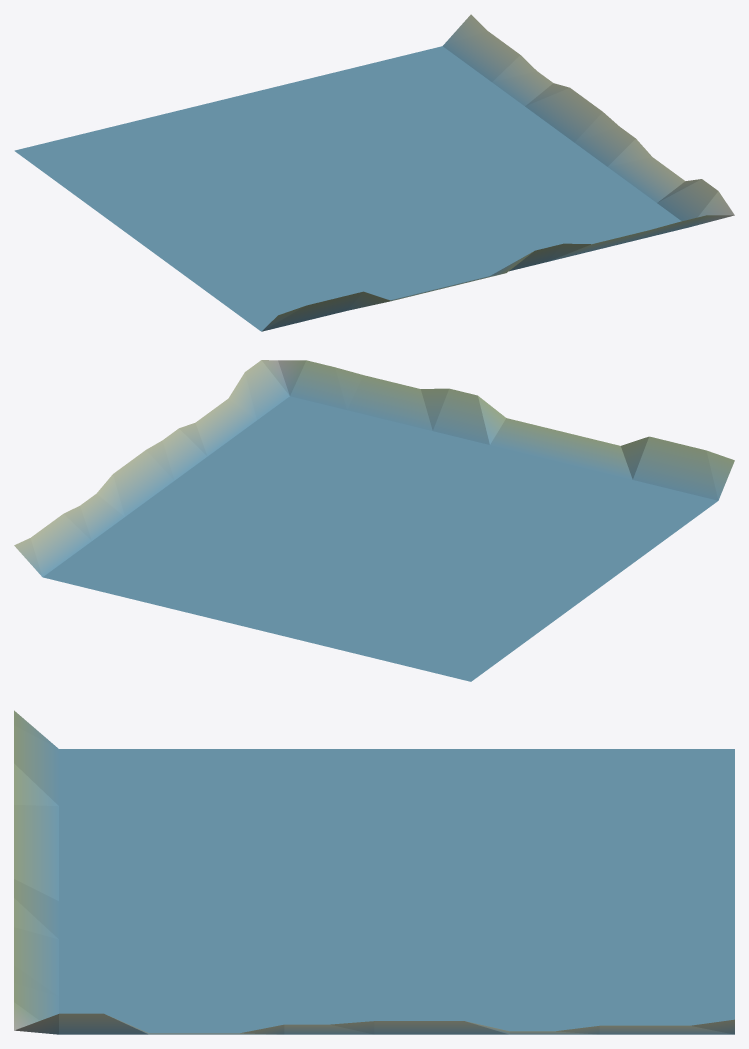
3 views of the same model, one above another, from view 1: azimuth 30°, elevation 25°; view 2: azimuth 150°, elevation 25°; view 3: azimuth 270°, elevation 25° (orthographic). The views are drawn at different scales.
Bounding box in the file's own units: 32 × 2.1 × 32.
